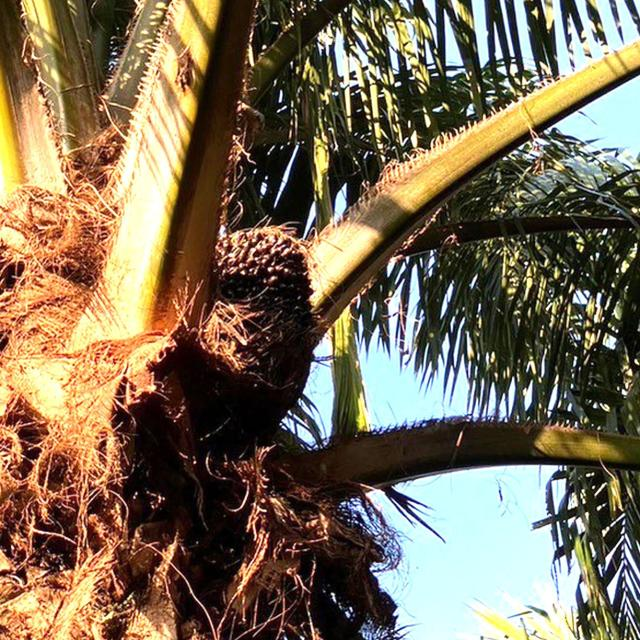almost: (210, 214, 316, 390)
